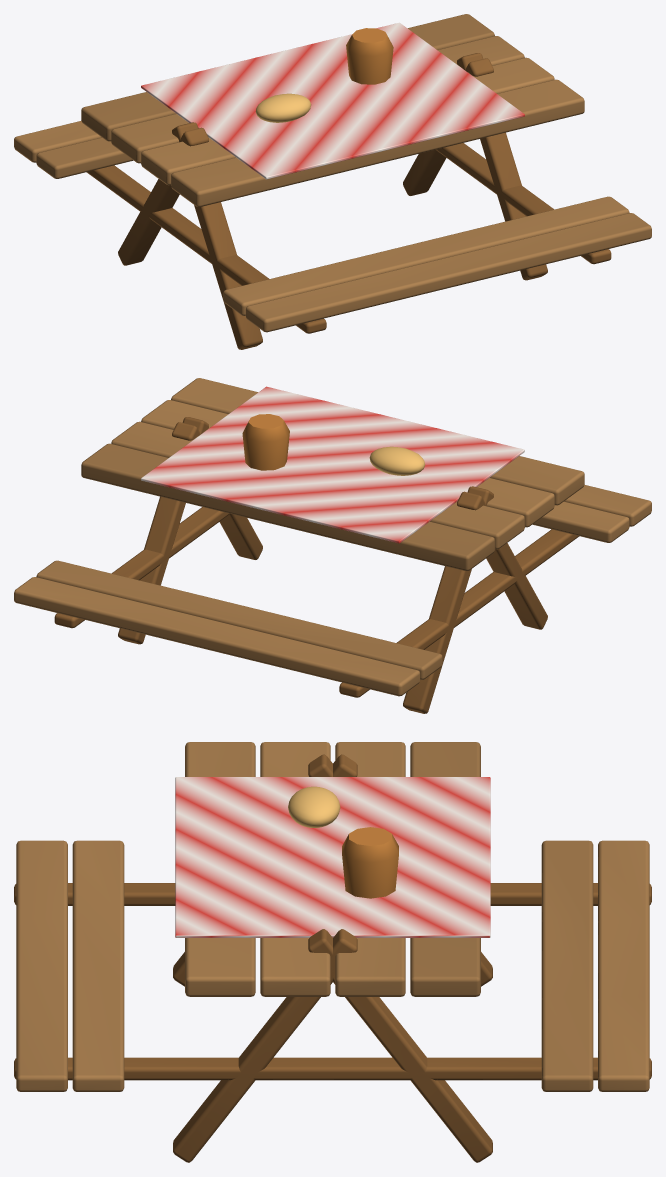
The model's file is picnic.glb.
3 views of the same model, one above another, from view 1: azimuth 30°, elevation 25°; view 2: azimuth 150°, elevation 25°; view 3: azimuth 270°, elevation 25° (orthographic). The views are drawn at different scales.
Visible parts, largest first — view 1: picnic_main, picnic_cloth; view 2: picnic_main, picnic_cloth; view 3: picnic_main, picnic_cloth.
Boxes of the visible parts, x1,y1,x2,y2 form: picnic_main: [14, 14, 651, 349]; picnic_cloth: [141, 22, 524, 179]; picnic_main: [14, 378, 651, 713]; picnic_cloth: [141, 386, 524, 543]; picnic_main: [14, 742, 651, 1162]; picnic_cloth: [175, 777, 490, 937].
Size of the model in its own units: 1.5 by 0.7822 by 1.7.
